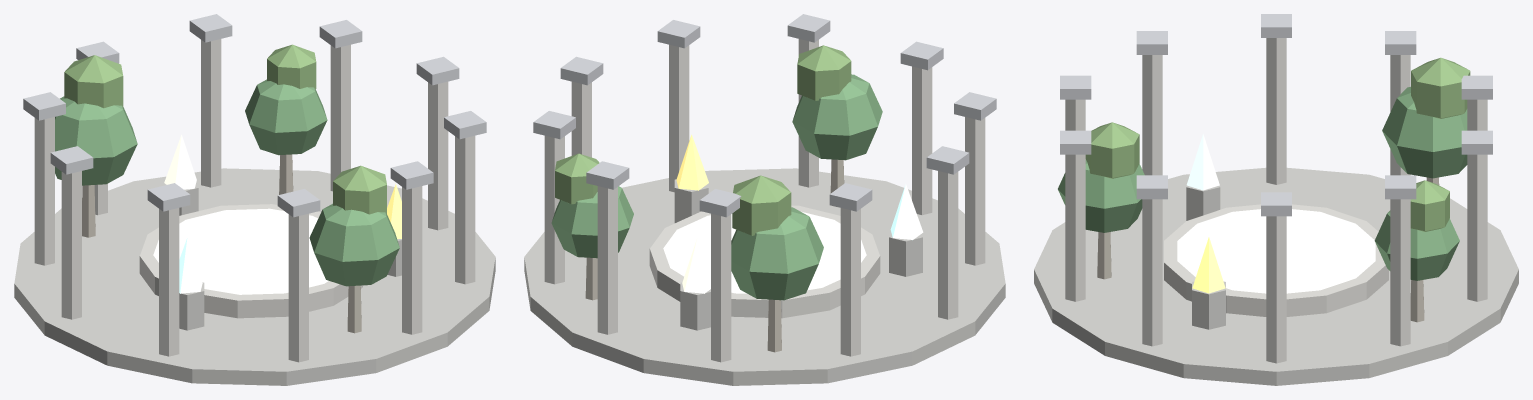
3 views of the same model, side by side, from view 1: azimuth 30°, elevation 25°; view 2: azimuth 150°, elevation 25°; view 3: azimuth 270°, elevation 25° (orthographic).
Visible parts, largest first — view 1: body; view 2: body; view 3: body.
Boxes of the visible parts, x1,y1,x2,y2 form: body: [14, 14, 495, 385]; body: [524, 14, 1005, 385]; body: [1034, 14, 1518, 385].
Bounding box in the file's own units: 12.4 × 5.3 × 12.4.
